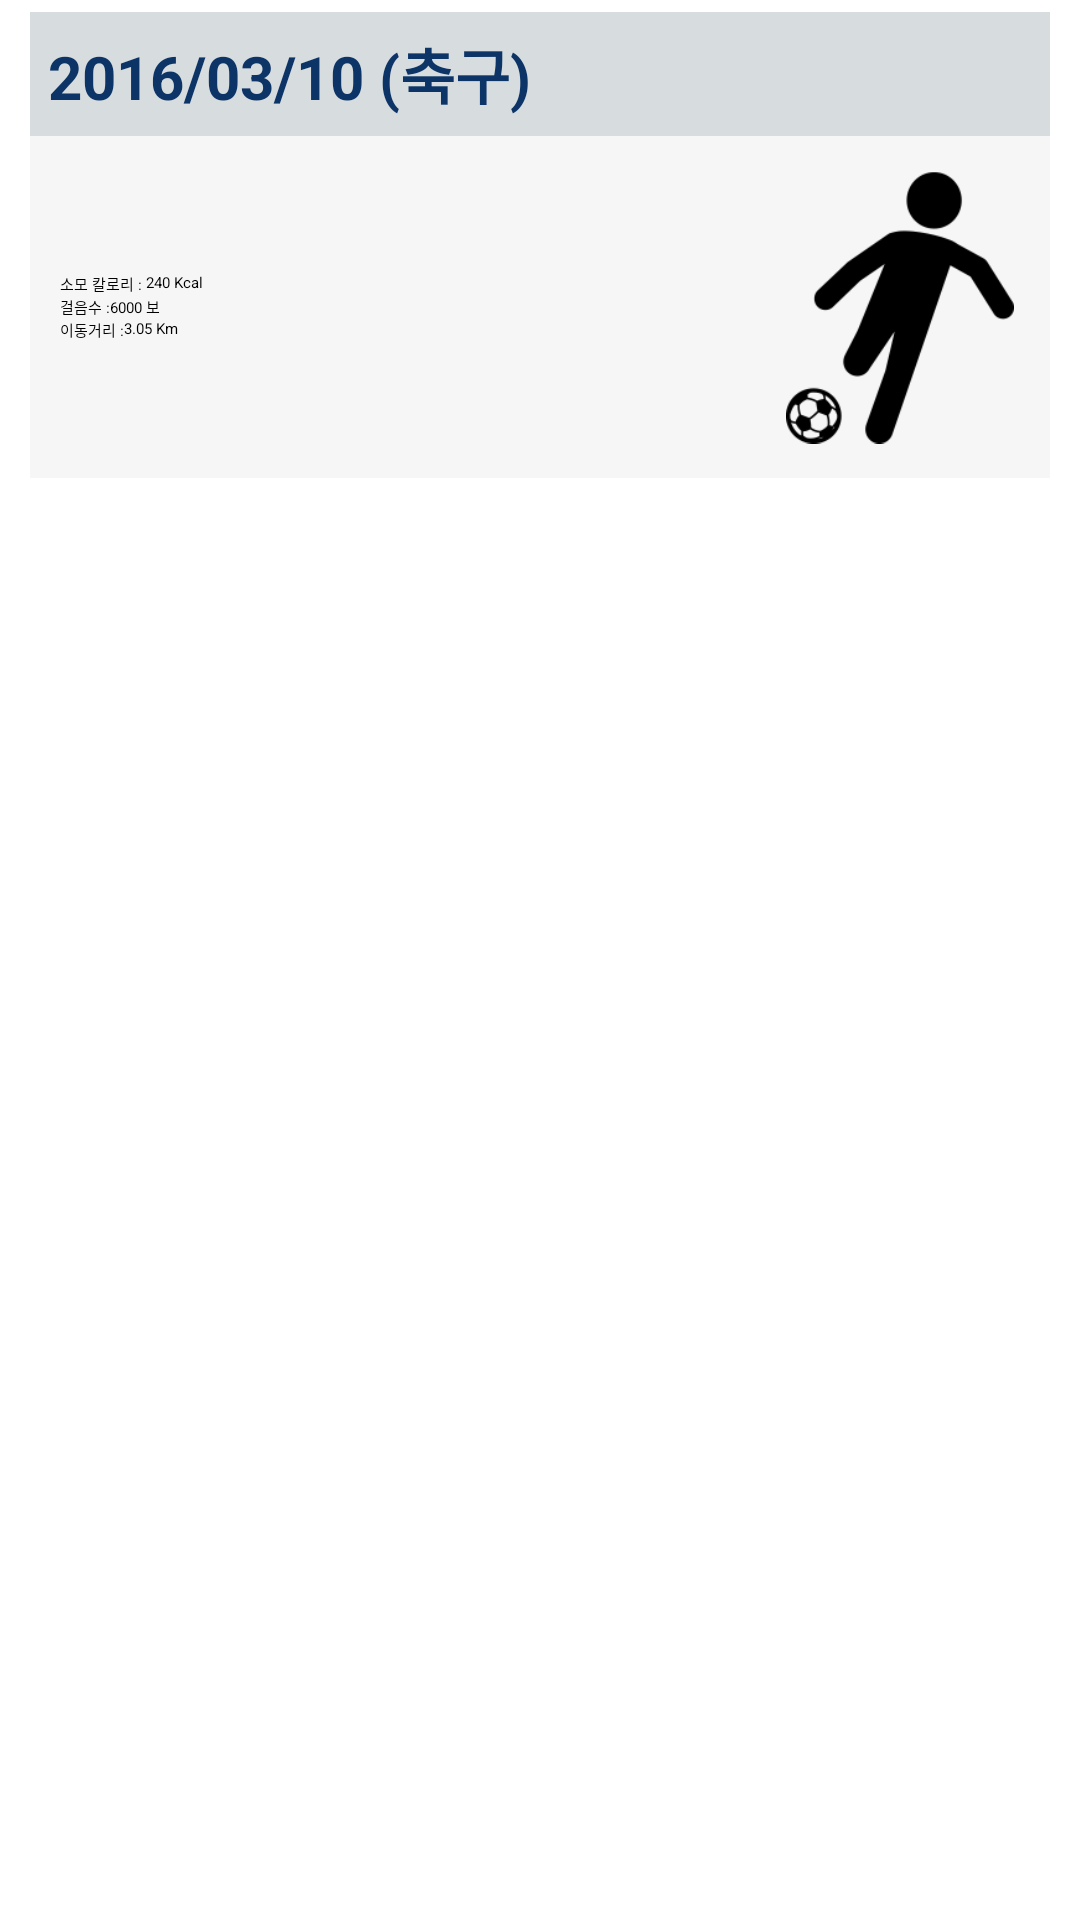

Named icons in this screenshot (1080w x 1920h) and their centers, (x,y):
pic football: (900,308)
